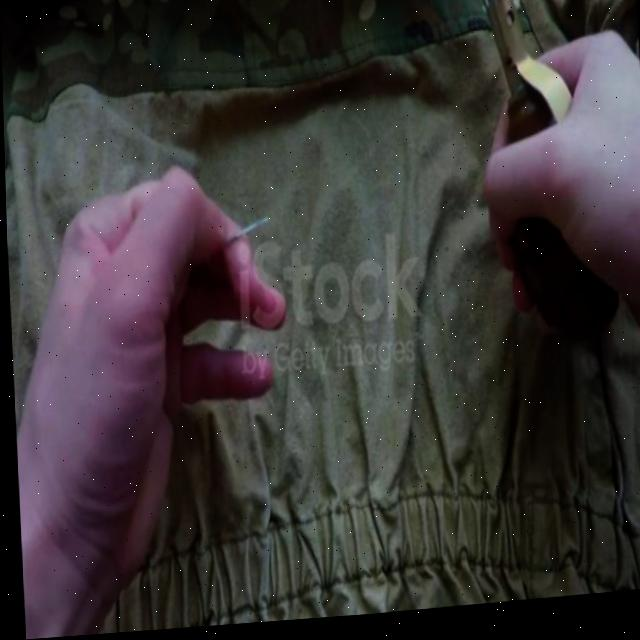grenade: (479, 0, 623, 345)
